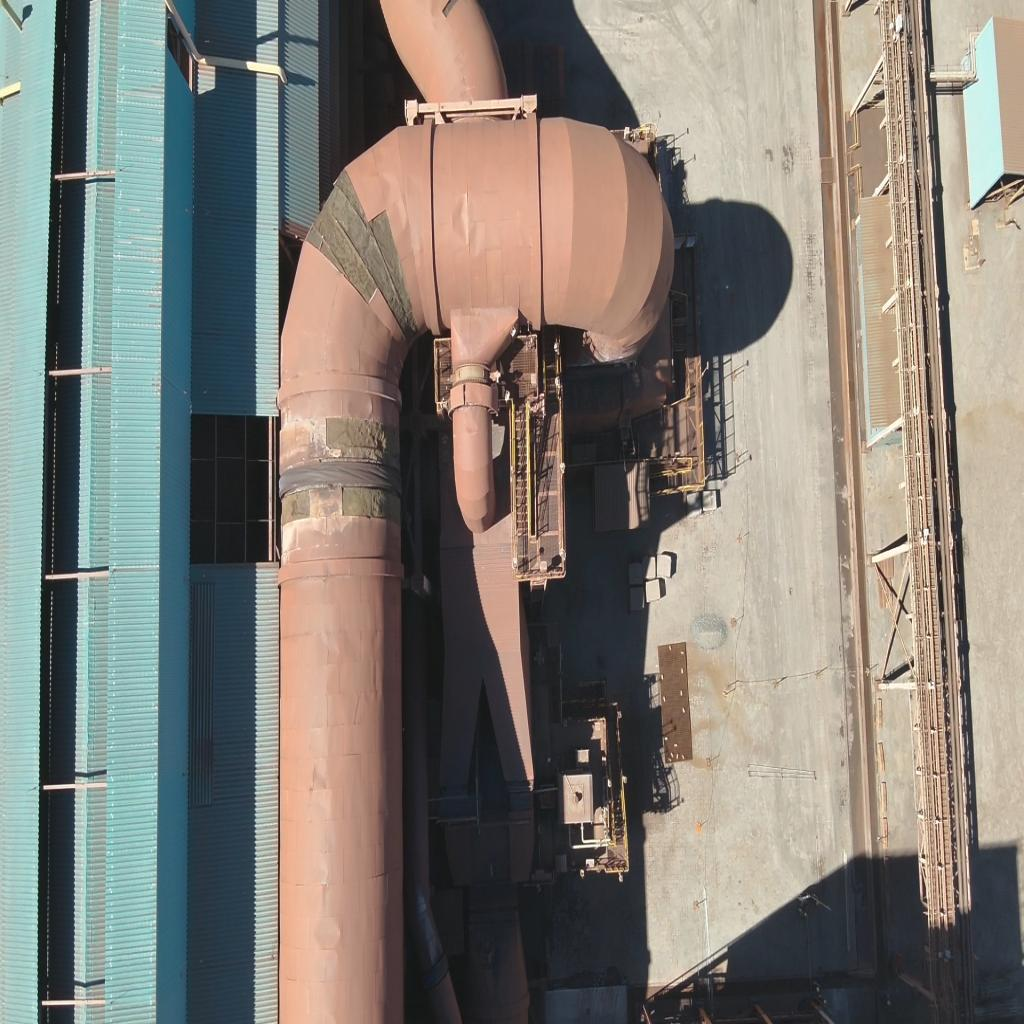Failures: (309, 161, 415, 334), (340, 474, 406, 525), (329, 416, 401, 452), (279, 476, 310, 531)
